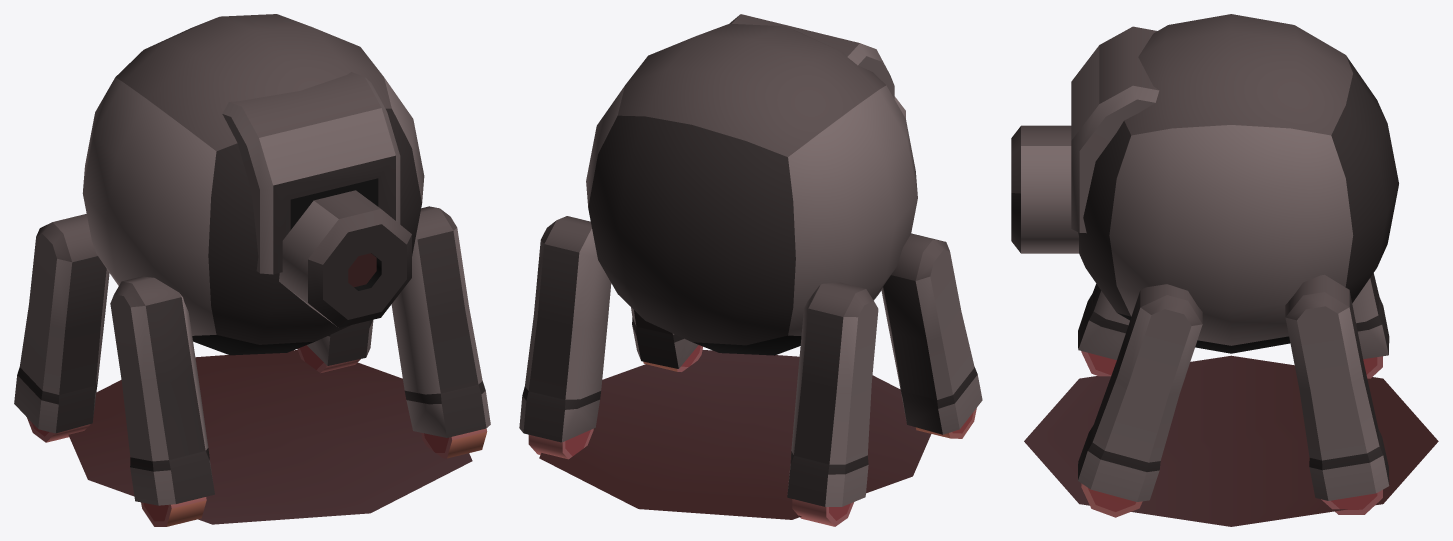
File: NeoTankMesh.NoireEclipse.glb
3 renders of one model, left to right at view 1: azimuth 30°, elevation 25°; view 2: azimuth 150°, elevation 25°; view 3: azimuth 270°, elevation 25°, orthographic. The views are drawn at different scales.
Visible parts, largest first — view 1: NeoTankMesh.NoireEclipse; view 2: NeoTankMesh.NoireEclipse; view 3: NeoTankMesh.NoireEclipse.
Boxes of the visible parts, <box> form: NeoTankMesh.NoireEclipse: <box>14,14,490,526</box>; NeoTankMesh.NoireEclipse: <box>519,14,982,526</box>; NeoTankMesh.NoireEclipse: <box>1011,14,1438,526</box>.
Bounding box in the file's own units: 2.03 × 2.26 × 2.14.
1 material, 1 textured.
